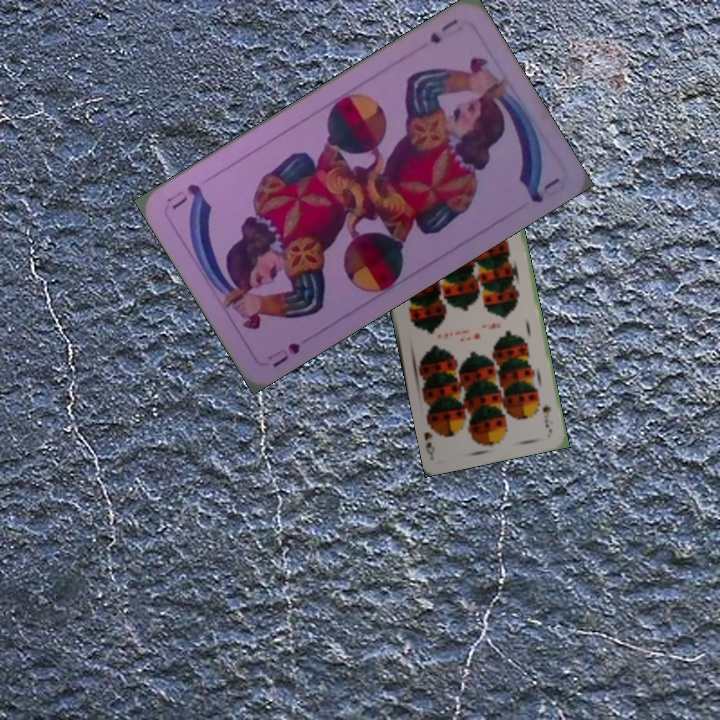S9: (538, 401, 555, 435)
SU: (268, 338, 303, 371), (425, 15, 461, 47)
